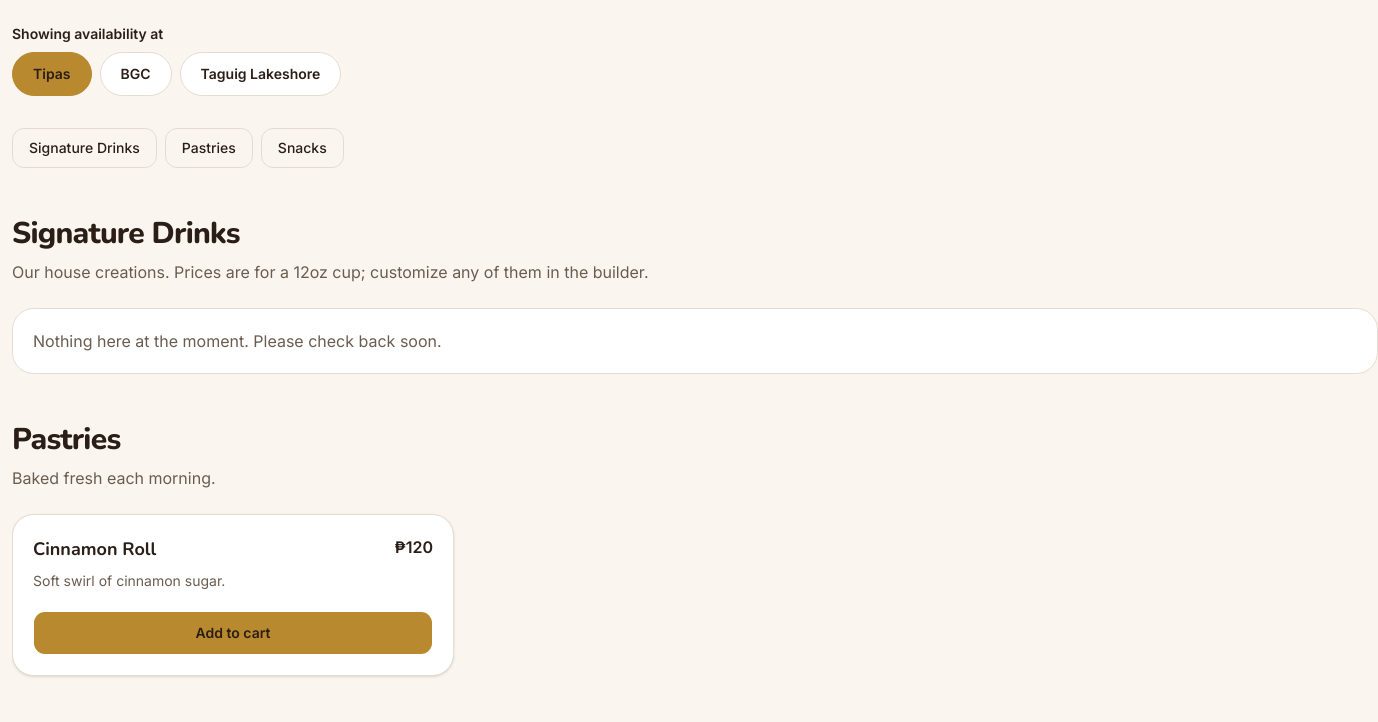
Scenario: MenuContent › switches branches instantly and remembers the choice in a cookie
Check: the text "Sold out at this branch" is not shown
Click the button "BGC". click: (136, 74)
box: [100,52,172,96]
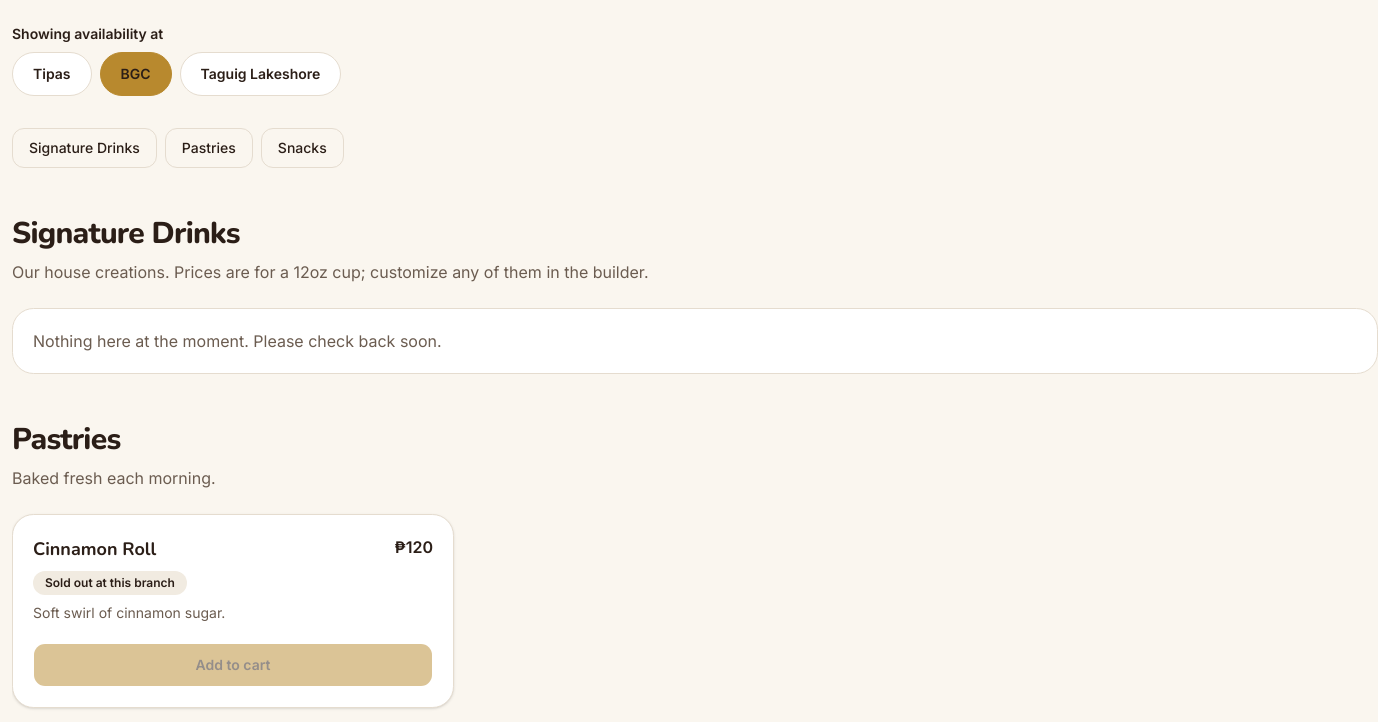
Check: the list item "Sold out at this branch" is shown, box [33,571,187,595]
